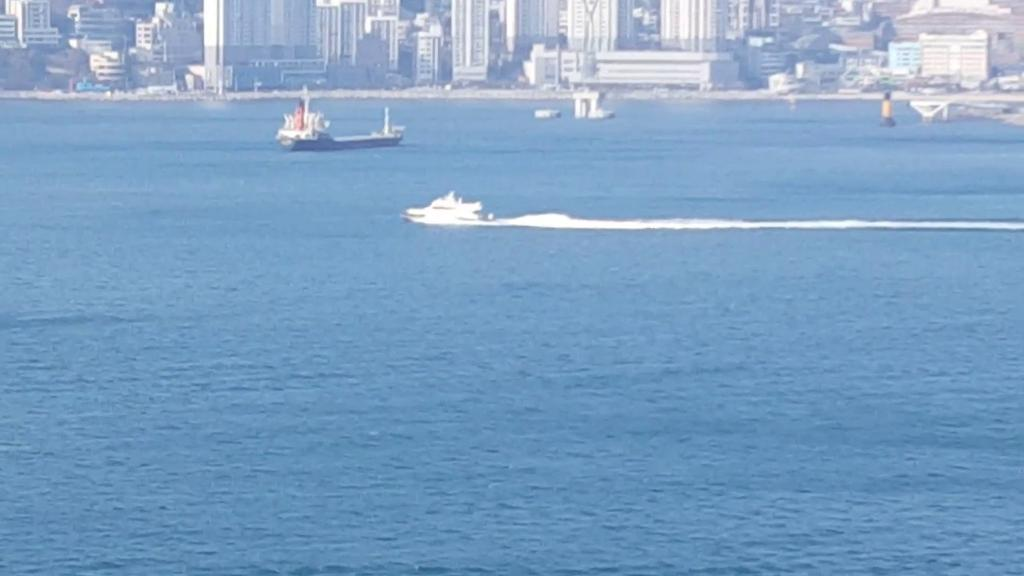PassengerShip: (398, 184, 504, 230)
